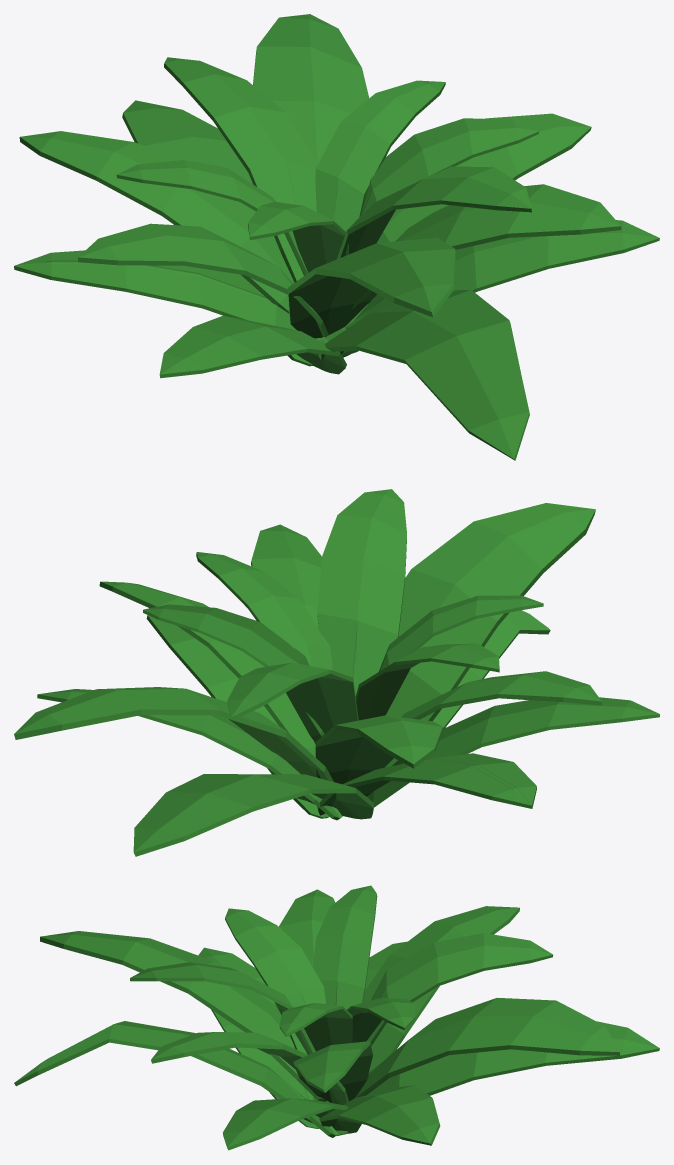
The model's file is grass.fbx.
3 renders of one model, top to bottom at view 1: azimuth 30°, elevation 25°; view 2: azimuth 150°, elevation 25°; view 3: azimuth 270°, elevation 25°, orthographic. The views are drawn at different scales.
Parts seen in each view (by area): view 1: grass; view 2: grass; view 3: grass.
Boxes of the visible parts, x1,y1,x2,y2 form: grass: [14, 14, 659, 460]; grass: [14, 489, 659, 856]; grass: [14, 885, 659, 1150].
Size of the model in its own units: 158 by 67.79 by 211.
